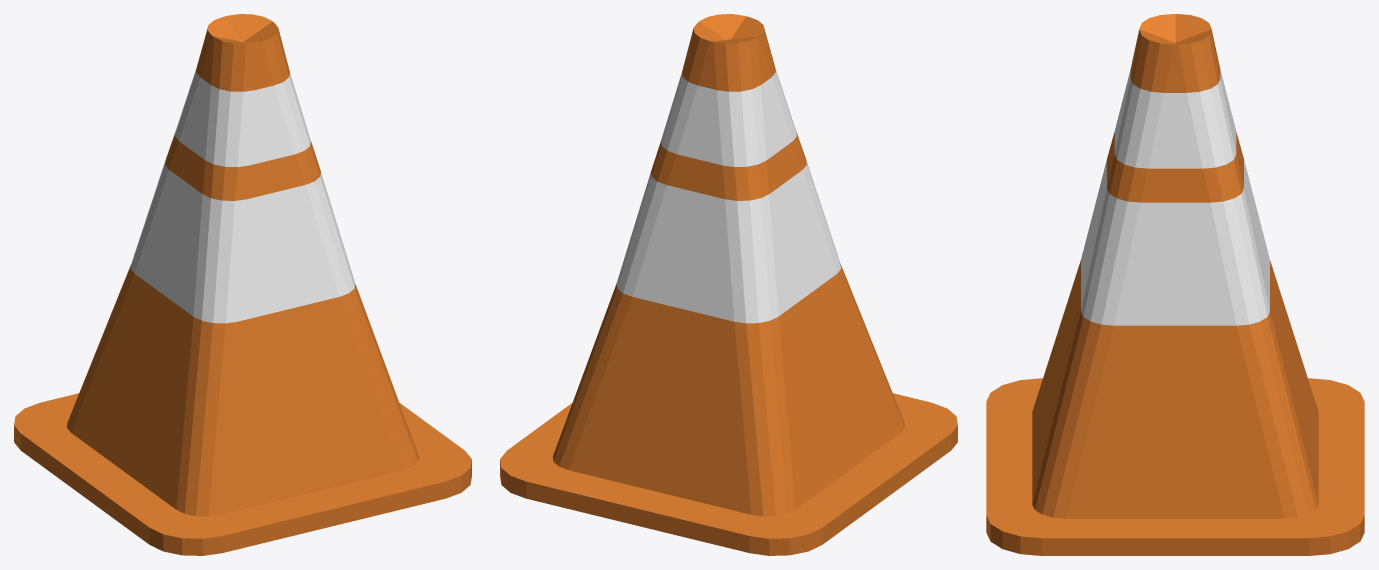
File: pylon.fbx
3 renders of one model, left to right at view 1: azimuth 30°, elevation 25°; view 2: azimuth 150°, elevation 25°; view 3: azimuth 270°, elevation 25°, orthographic. The views are drawn at different scales.
Visible parts, largest first — view 1: pylon; view 2: pylon; view 3: pylon.
Boxes of the visible parts, left/top/right/bottom form: pylon: left=14, top=14, right=471, bottom=555; pylon: left=500, top=14, right=957, bottom=555; pylon: left=986, top=14, right=1364, bottom=555.
Size of the model in its own units: 103 by 134 by 103.
